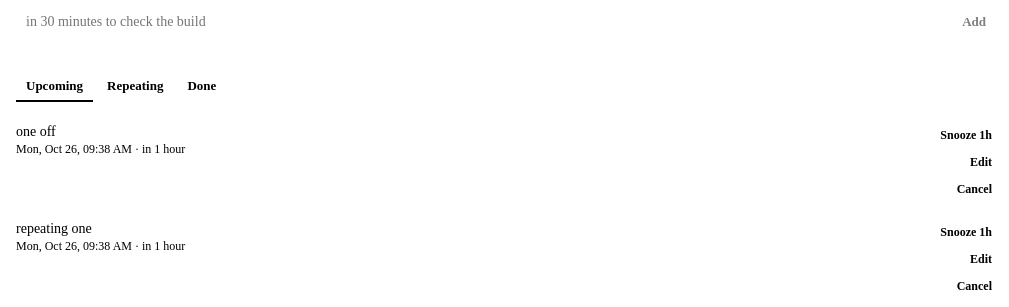
Scenario: RemindersSidebar › tabs › Repeating shows only the repeating ones
Expected: the text "one off" is shown, [16,124,56,139]
Click the tab "Repeating" at (135,87), box [97,72,173,102]
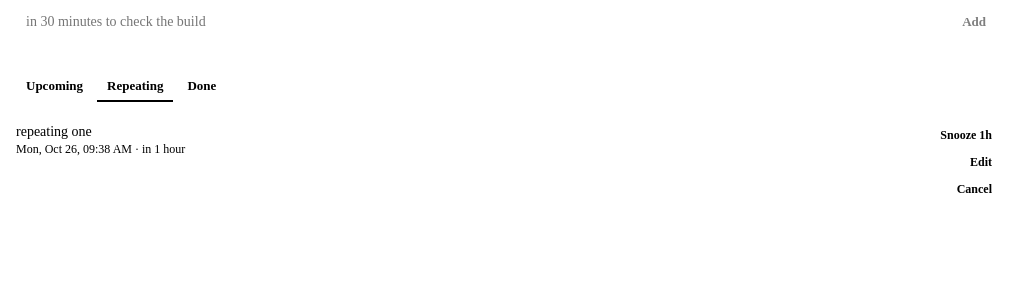
Expected: the text "repeating one" is shown, [16,124,92,139]
Result: the text "one off" is gone
